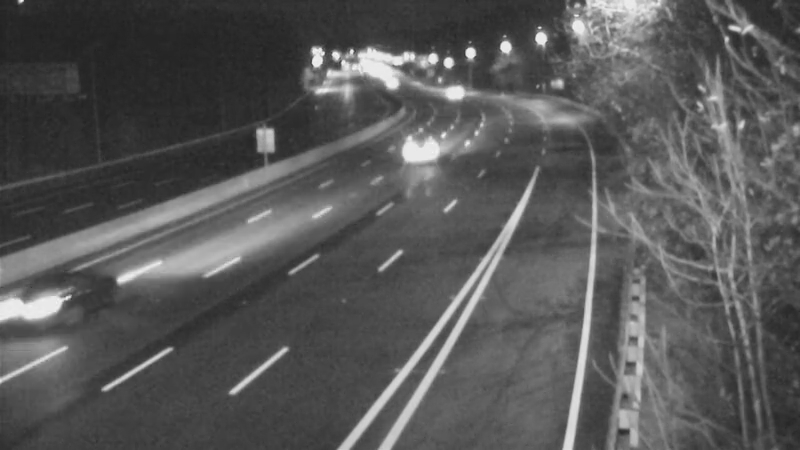vehicle: (1, 246, 101, 356), (431, 67, 481, 117), (391, 124, 441, 174)
